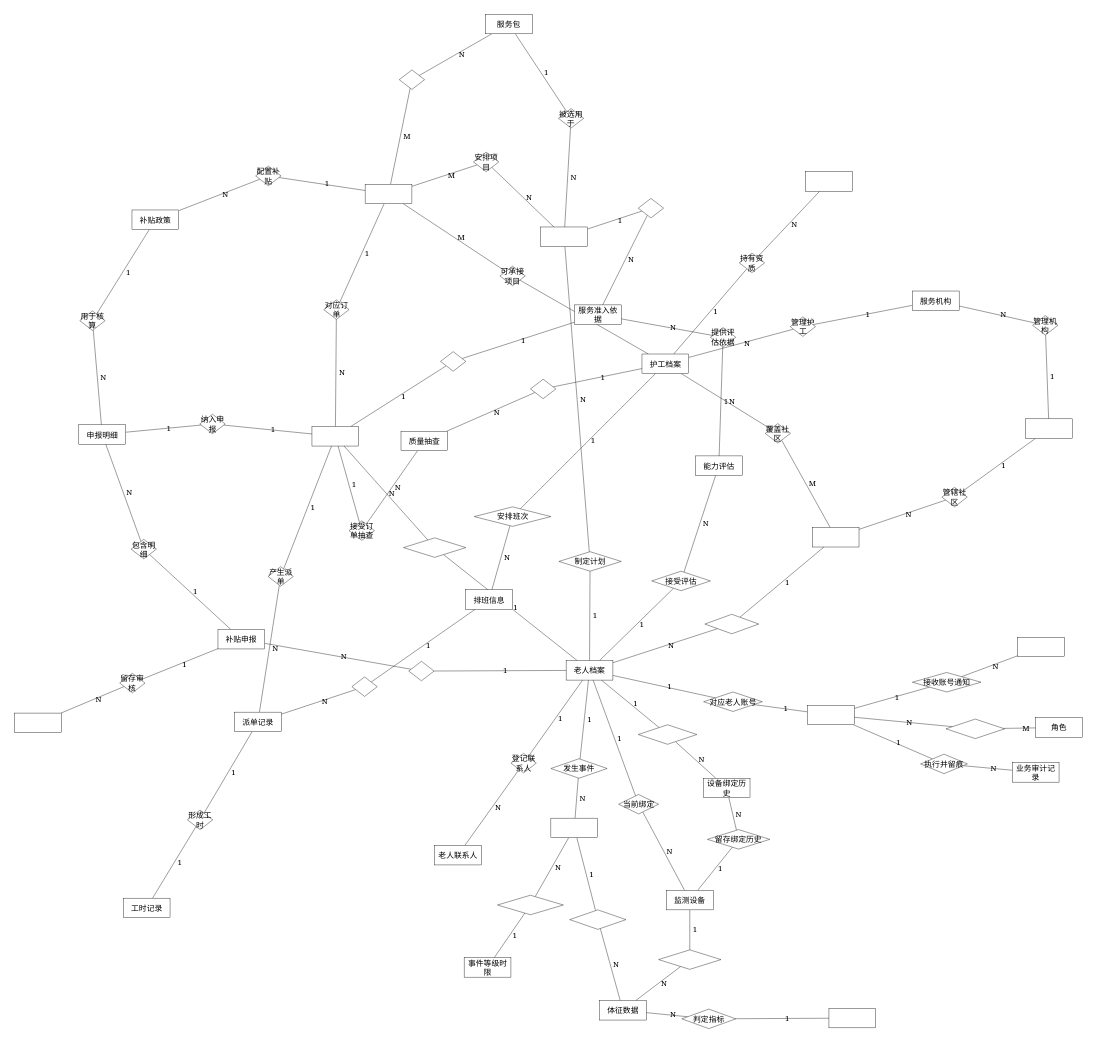
Some shapes in this 1097 by 1042 pixel diagram are drawn without their labels. The shapes that lost their labels are listed below. From the top down, each one's centre as x and y in pixels, then its label:
At (412,79): "包含项目".
At (388,194): "服务项目".
At (828,181): "护工资质".
At (651,208): "提供计划依据".
At (564,236): "照护计划".
At (453,361): "保存资格".
At (543,389): "接受护工抽查".
At (335,436): "服务订单".
At (1048,428): "行政区划".
At (434,547): "预约服务".
At (835,537): "社区".
At (731,624): "管理档案".
At (1041,647): "通知记录".
At (364,686): "承接派单".
At (421,671): "申请补贴".
At (37,723): "申报审核记录".
At (667,734): "关联绑定历史".
At (830,715): "用户".
At (975,729): "拥有角色".
At (574,828): "应急事件".
At (530,905): "规定处置时限".
At (597,919): "关联体征".
At (689,959): "采集体征".
At (852,1018): "指标阈值".
